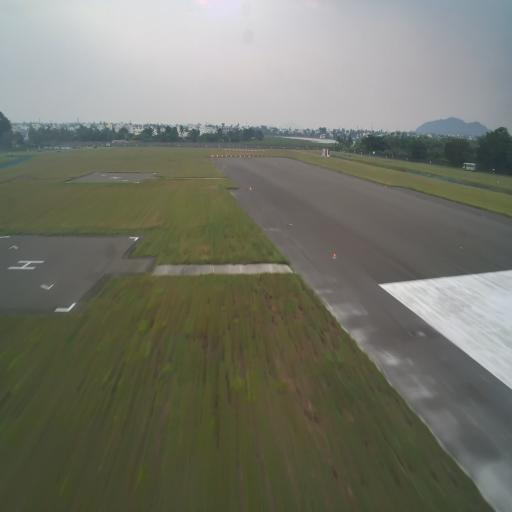off: (416, 329, 426, 340), (288, 221, 294, 229), (459, 244, 464, 251)
on: (332, 252, 336, 260), (249, 186, 252, 191), (384, 184, 387, 188), (317, 164, 319, 169), (212, 154, 214, 158), (221, 154, 223, 158), (230, 154, 232, 158), (235, 154, 237, 158), (210, 155, 212, 158), (239, 155, 241, 158), (248, 155, 250, 158), (253, 155, 255, 158), (266, 155, 268, 158), (223, 166, 225, 168), (257, 156, 259, 158), (270, 156, 272, 158), (217, 155, 218, 158), (226, 155, 227, 158), (244, 155, 245, 158), (262, 155, 263, 158)
